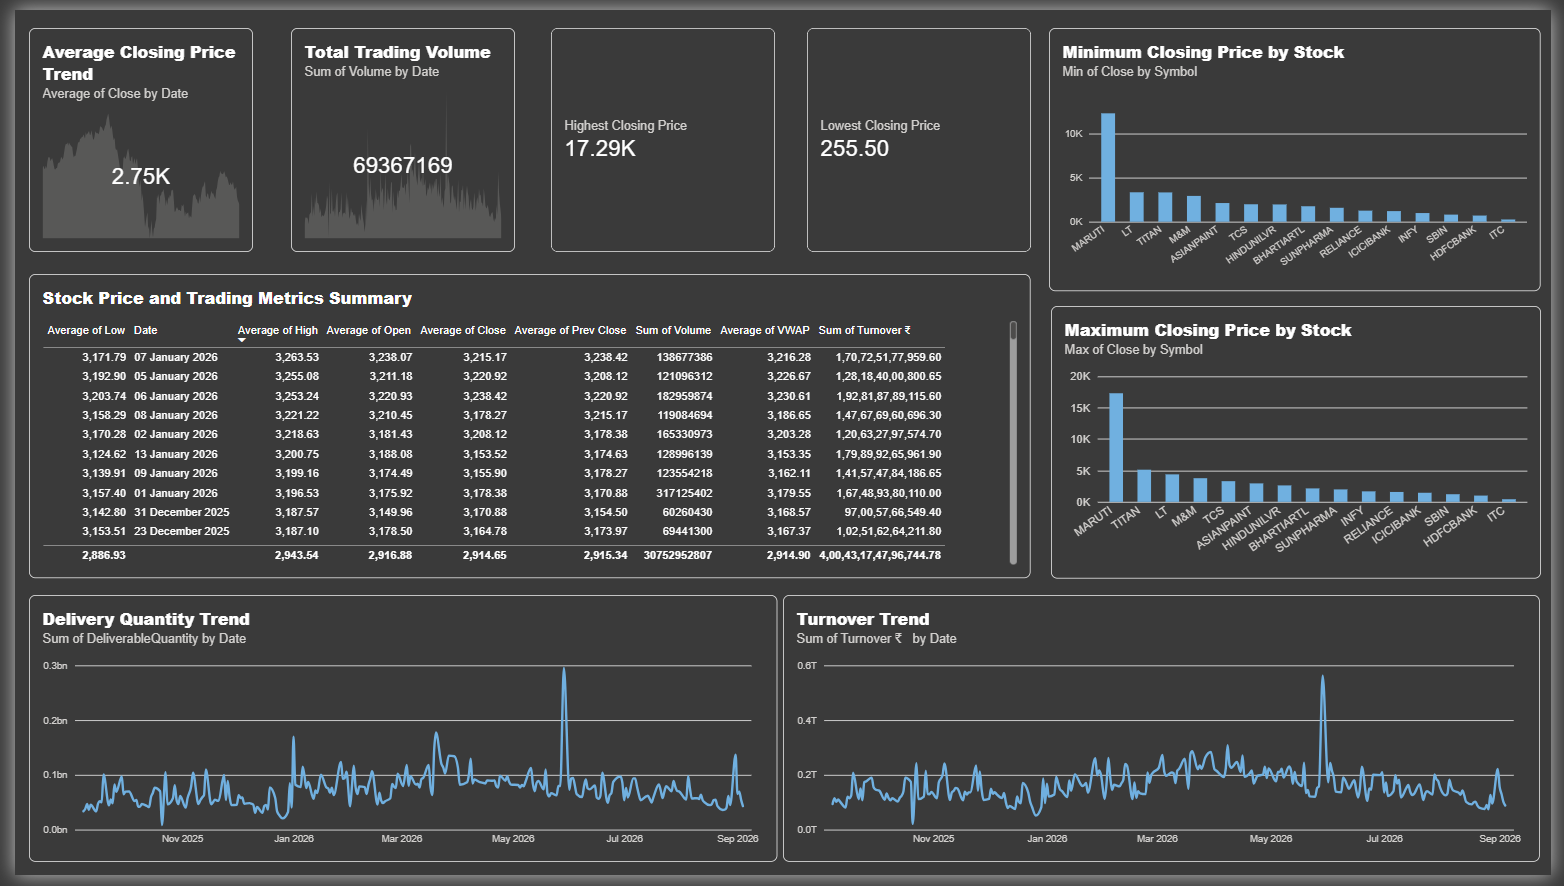

Layout of this report page (visuals, bound fields, positions):
{"tool":"powerbi","page":{"name":"Stock Comparison and Performance","canvas":[1920,1080],"ordinal":2},"visuals":[{"type":"kpi","title":"Average Closing Price Trend","fields":{"Indicator":["Avg(Stocks_Data.Close)"],"TrendLine":["DateTable.Date"]},"box":[16.7,22.9,280,280],"z":0},{"type":"kpi","title":"Total Trading Volume","fields":{"Indicator":["Sum(Stocks_Data.Volume)"],"TrendLine":["DateTable.Date"]},"box":[345.8,22.9,280,280],"z":1000},{"type":"cardVisual","fields":{"Data":["Stocks_Data.Highest Closing Price"]},"box":[670.8,22.9,280,280],"z":2000},{"type":"cardVisual","fields":{"Data":["Stocks_Data.Lowest Closing Price"]},"box":[989.6,22.9,280,280],"z":3000},{"type":"clusteredColumnChart","title":"Maximum Closing Price by Stock","fields":{"Category":["Stocks_Data.Symbol  "],"Y":["Max(Stocks_Data.Close)"]},"box":[1293.8,368.8,612.5,339.6],"z":4000},{"type":"clusteredColumnChart","title":"Minimum Closing Price by Stock","fields":{"Category":["Stocks_Data.Symbol  "],"Y":["Min(Stocks_Data.Close)"]},"box":[1291.7,22.9,614.6,329.2],"z":5000},{"type":"tableEx","title":"Stock Price and Trading Metrics Summary","fields":{"Values":["Avg(Stocks_Data.Low)","Stocks_Data.Date  ","Avg(Stocks_Data.High)","Avg(Stocks_Data.Open)","Avg(Stocks_Data.Close)","Avg(Stocks_Data.Prev Close  )","Stocks_Data.Volume","Avg(Stocks_Data.VWAP)","Sum(Stocks_Data.Turnover ₹  )"]},"box":[17.2,330.8,1252.1,379.2],"z":5001},{"type":"lineChart","title":"Delivery Quantity Trend","fields":{"Category":["Stocks_Data.Date  "],"Y":["Sum(Stocks_Data.DeliverableQuantity)"]},"box":[16.7,729.2,935.4,333.3],"z":5002},{"type":"lineChart","title":"Turnover Trend ","fields":{"Category":["Stocks_Data.Date  "],"Y":["Sum(Stocks_Data.Turnover ₹  )"]},"box":[960.4,729.2,945.8,333.3],"z":5003}]}

Visuals, with their boxes in screenshot pixels (x1, y1, x2, y2), scaled from the page's 1920x1080 canvas onto the 1564x886 screenshot:
"Average Closing Price Trend" kpi: select_region(14, 19, 242, 248)
"Total Trading Volume" kpi: select_region(282, 19, 510, 248)
cardVisual - Stocks_Data.Highest Closing Price: select_region(546, 19, 775, 248)
cardVisual - Stocks_Data.Lowest Closing Price: select_region(806, 19, 1034, 248)
"Maximum Closing Price by Stock" clusteredColumnChart: select_region(1054, 303, 1553, 581)
"Minimum Closing Price by Stock" clusteredColumnChart: select_region(1052, 19, 1553, 289)
"Stock Price and Trading Metrics Summary" tableEx: select_region(14, 271, 1034, 582)
"Delivery Quantity Trend" lineChart: select_region(14, 598, 776, 872)
"Turnover Trend " lineChart: select_region(782, 598, 1553, 872)
